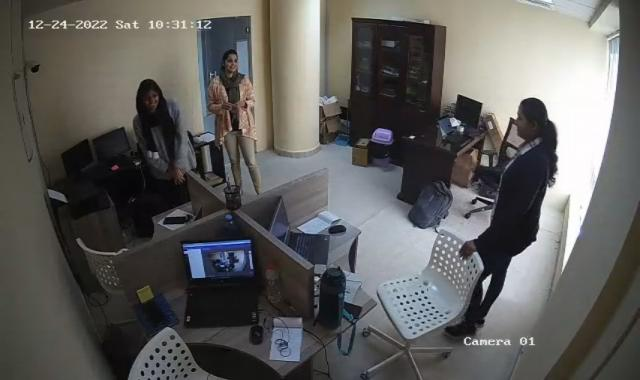no_hairnet: (512, 97, 558, 142), (133, 78, 162, 110), (220, 52, 242, 73)
